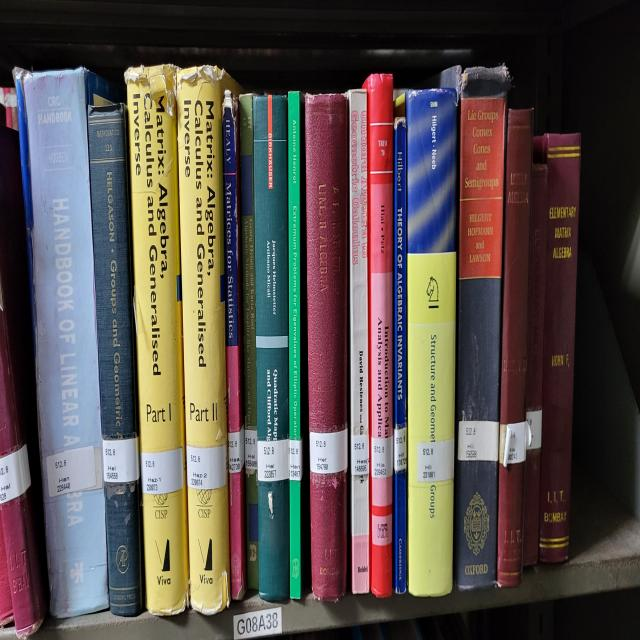Book: (19, 68, 116, 617), (125, 65, 189, 614), (176, 68, 238, 614), (88, 106, 142, 614), (405, 87, 458, 595), (305, 95, 348, 601), (536, 133, 581, 563), (254, 97, 290, 601), (498, 108, 532, 587), (364, 76, 394, 598), (455, 276, 501, 590), (222, 92, 246, 601), (348, 89, 370, 593), (522, 162, 548, 565), (239, 95, 259, 590), (461, 97, 505, 268), (394, 108, 408, 593), (289, 92, 302, 598)
Label: (46, 446, 96, 498), (140, 446, 184, 495), (186, 444, 226, 490), (102, 436, 140, 482), (310, 427, 348, 473), (458, 419, 499, 460), (418, 438, 454, 482), (258, 438, 289, 482), (502, 422, 526, 465), (371, 436, 392, 479), (228, 427, 245, 473), (351, 433, 369, 476), (526, 409, 542, 449), (245, 427, 258, 473), (289, 438, 302, 482), (394, 427, 406, 471)
